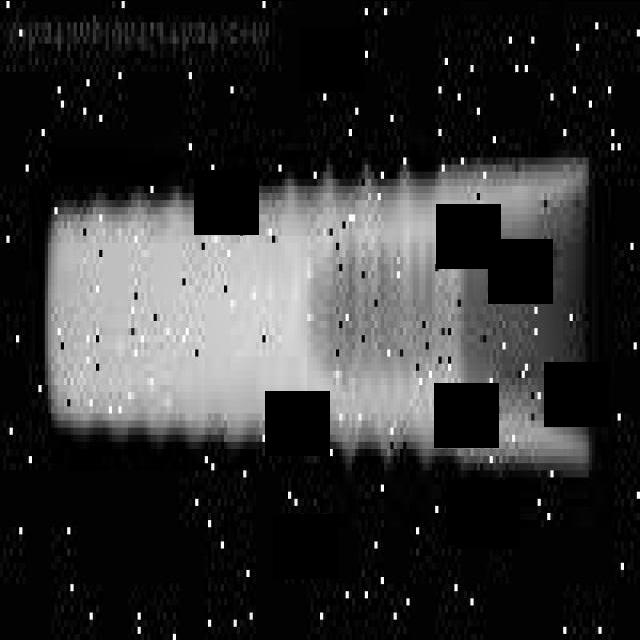Nobel Biocare Implant: (31, 149, 596, 481)
